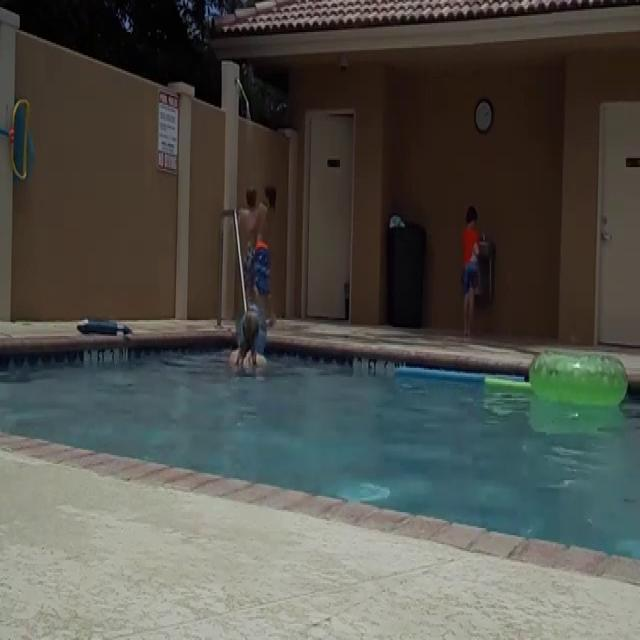adult: (230, 310, 269, 376)
child: (458, 198, 482, 340), (239, 179, 260, 315), (259, 188, 278, 323)
